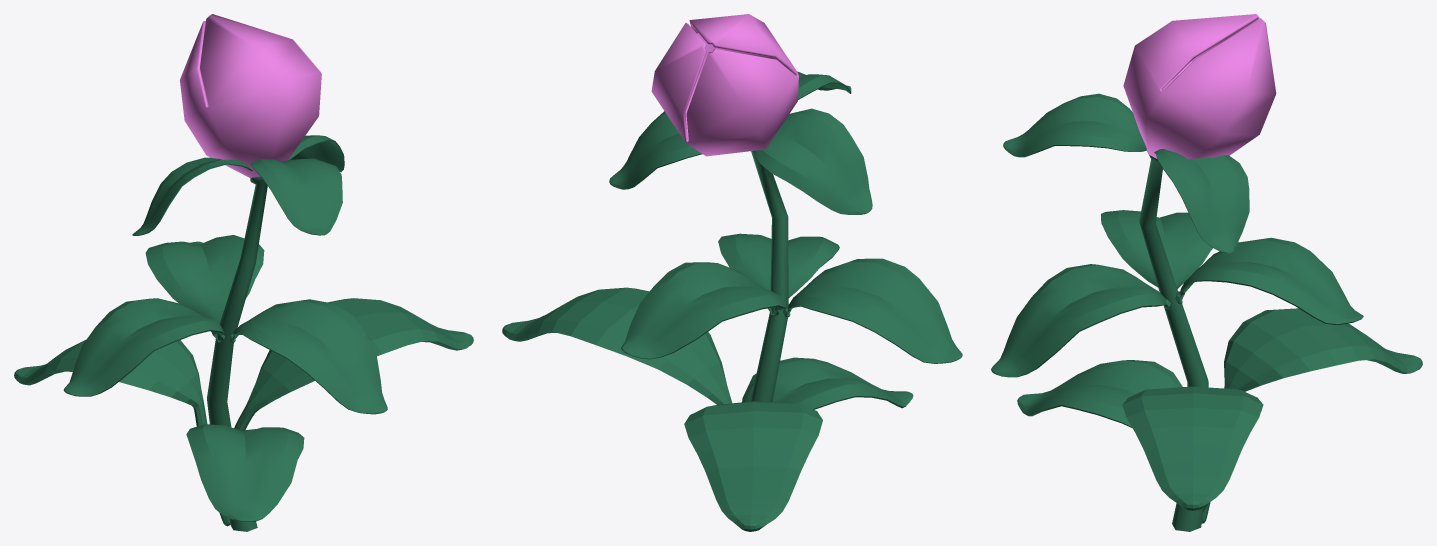
Rendered from SnapDragon.fbx.
3 views of the same model, side by side, from view 1: azimuth 30°, elevation 25°; view 2: azimuth 150°, elevation 25°; view 3: azimuth 270°, elevation 25° (orthographic). The views are drawn at different scales.
Parts seen in each view (by area): view 1: BézierCurve.002, Plane.012, Plane.015, Plane.014, Plane.013, Plane.016, Plane.011, BézierCurve.003, Plane.017, Plane.018; view 2: BézierCurve.002, Plane.012, Plane.011, Plane.014, Plane.013, Plane.017, BézierCurve.003, Plane.015, Plane.018, Plane.016; view 3: BézierCurve.002, Plane.012, Plane.011, Plane.015, Plane.013, Plane.018, Plane.016, BézierCurve.003, Plane.014.
Boxes of the visible parts, x1,y1,x2,y2 form: BézierCurve.002: (180,14,321,177); Plane.012: (186,298,473,521); Plane.015: (229,299,387,414); Plane.014: (63,298,224,396); Plane.013: (145,235,264,323); Plane.016: (250,158,342,235); Plane.011: (14,339,230,526); BézierCurve.003: (207,176,267,531); Plane.017: (132,157,252,235); Plane.018: (288,135,344,172); BézierCurve.002: (651,14,798,156); Plane.012: (502,287,913,409); Plane.011: (684,401,822,531); Plane.014: (783,258,962,363); Plane.013: (621,262,785,359); Plane.017: (753,108,872,214); BézierCurve.003: (751,151,788,401); Plane.015: (718,233,839,297); Plane.018: (609,111,702,189); Plane.016: (797,71,851,99); BézierCurve.002: (1123,14,1276,159); Plane.012: (1017,360,1263,511); Plane.011: (1201,308,1422,523); Plane.015: (991,264,1170,377); Plane.013: (1175,237,1363,324); Plane.018: (1154,149,1249,253); Plane.016: (1003,93,1146,157); BézierCurve.003: (1139,151,1208,531); Plane.014: (1101,210,1212,291).
Bounding box in the file's own units: 150 × 165 × 125.
